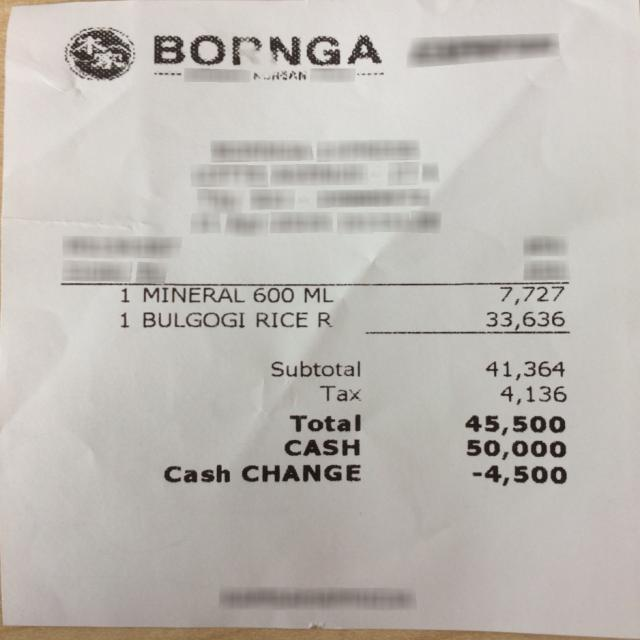text: (152, 32, 379, 65), (240, 463, 360, 482), (465, 439, 564, 458), (471, 464, 565, 484), (465, 415, 562, 434), (485, 310, 568, 330), (270, 359, 362, 377), (281, 438, 360, 457), (498, 384, 566, 406), (144, 287, 242, 302), (288, 412, 361, 432), (142, 312, 244, 326), (484, 361, 562, 379), (495, 285, 565, 304), (162, 464, 228, 481), (256, 312, 310, 329), (318, 385, 359, 401), (252, 285, 291, 301), (303, 287, 336, 302), (253, 70, 302, 79), (318, 310, 332, 326), (120, 309, 128, 328), (120, 288, 128, 301)
